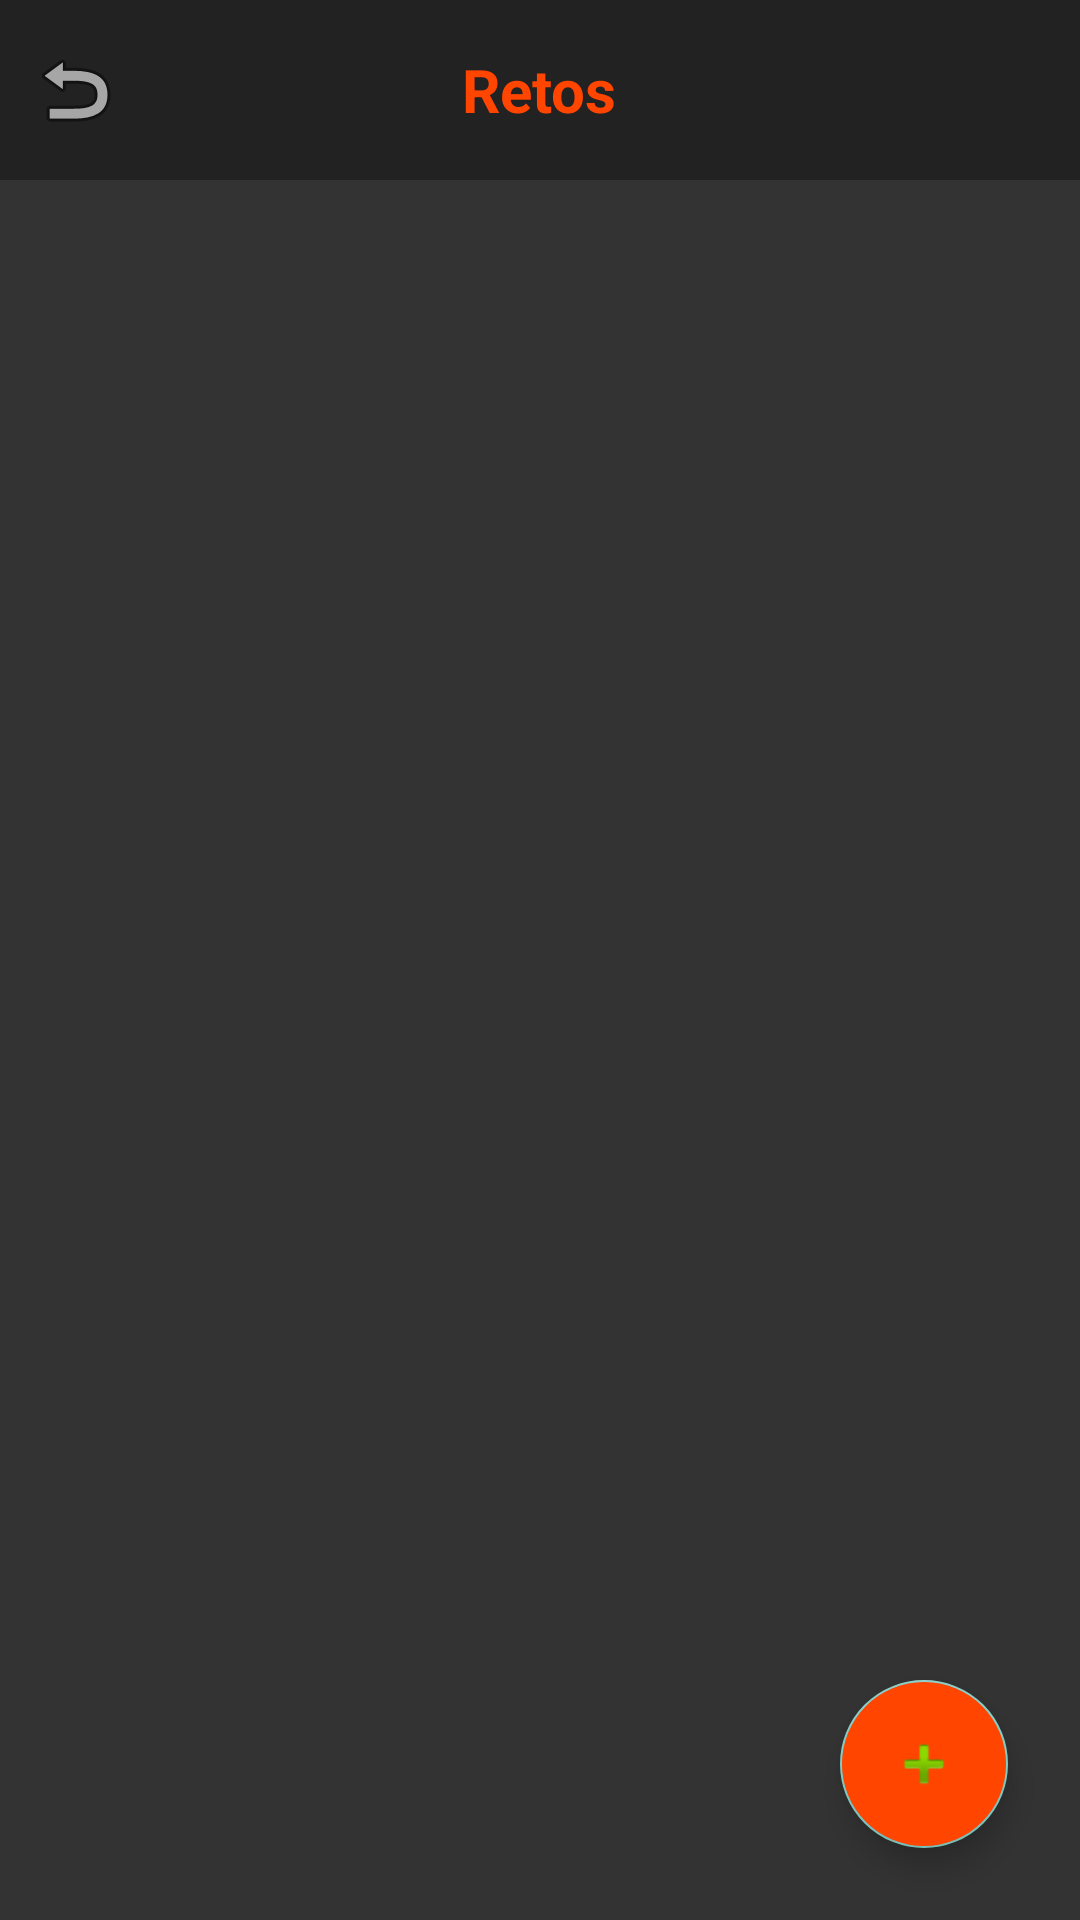

Where to tap for icons on this 1080px x 1920px app screen, as (x,y):
add: (924,1764)
revert: (76,90)
